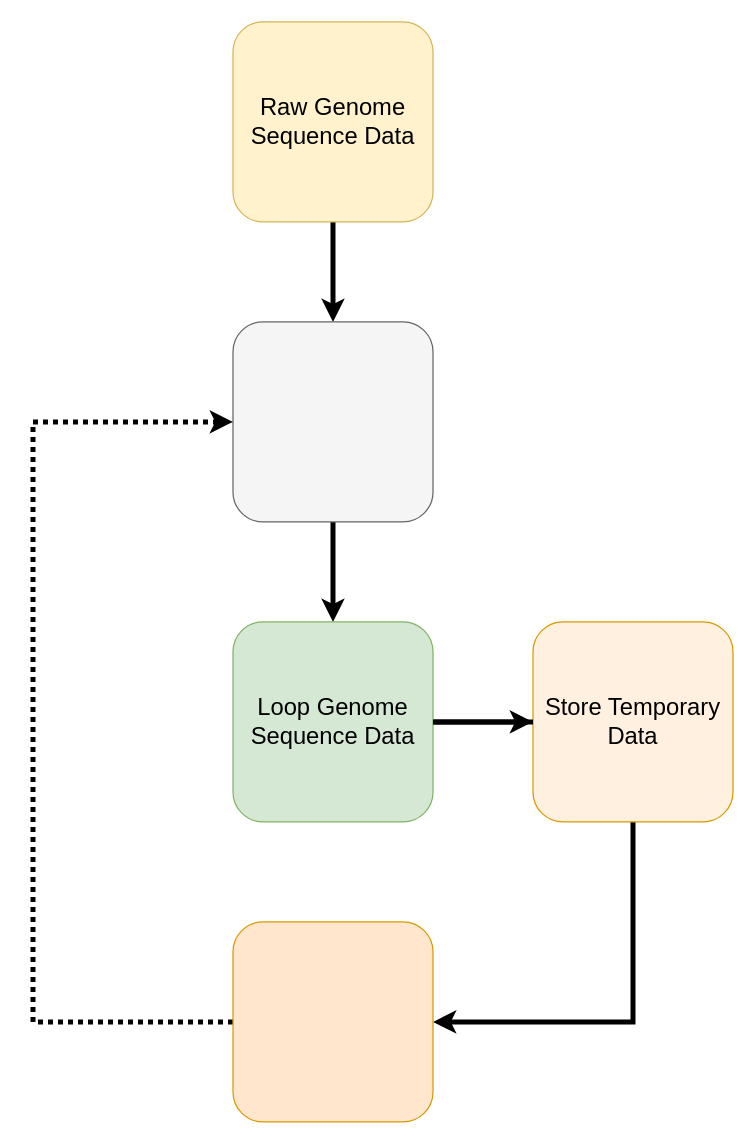
The diagram is 755 pixels wide and 1144 high, and some of its shapes have lost their labels. The shapes that lost their labels are listed below. From the top down, each one's centre as x and y in pixels, then its label:
pixel 332 421: Batch
pixel 332 1021: Compress to NPZ
